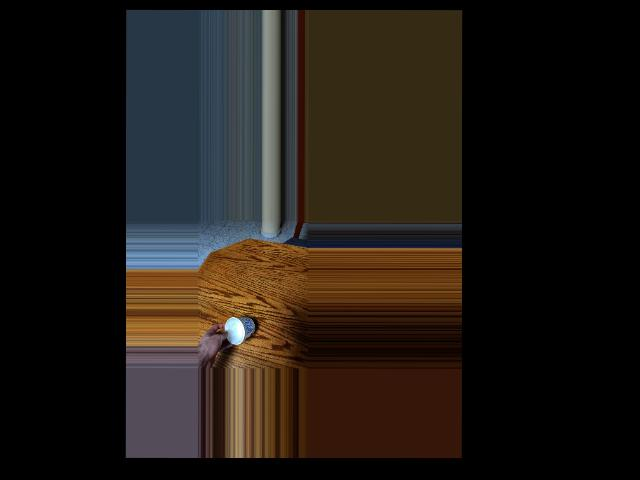cotage: (224, 317, 253, 339)
